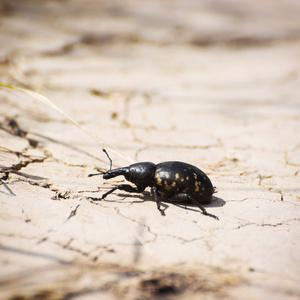Curculionidae: (85, 148, 219, 219)
